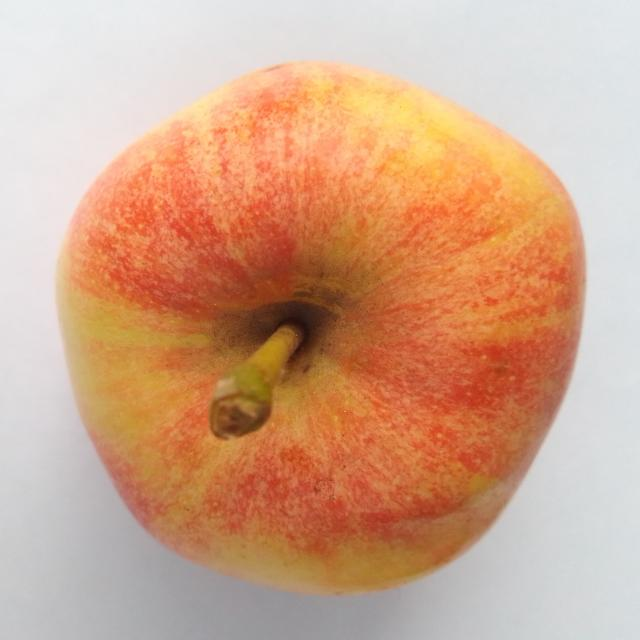apple: (58, 63, 584, 593)
